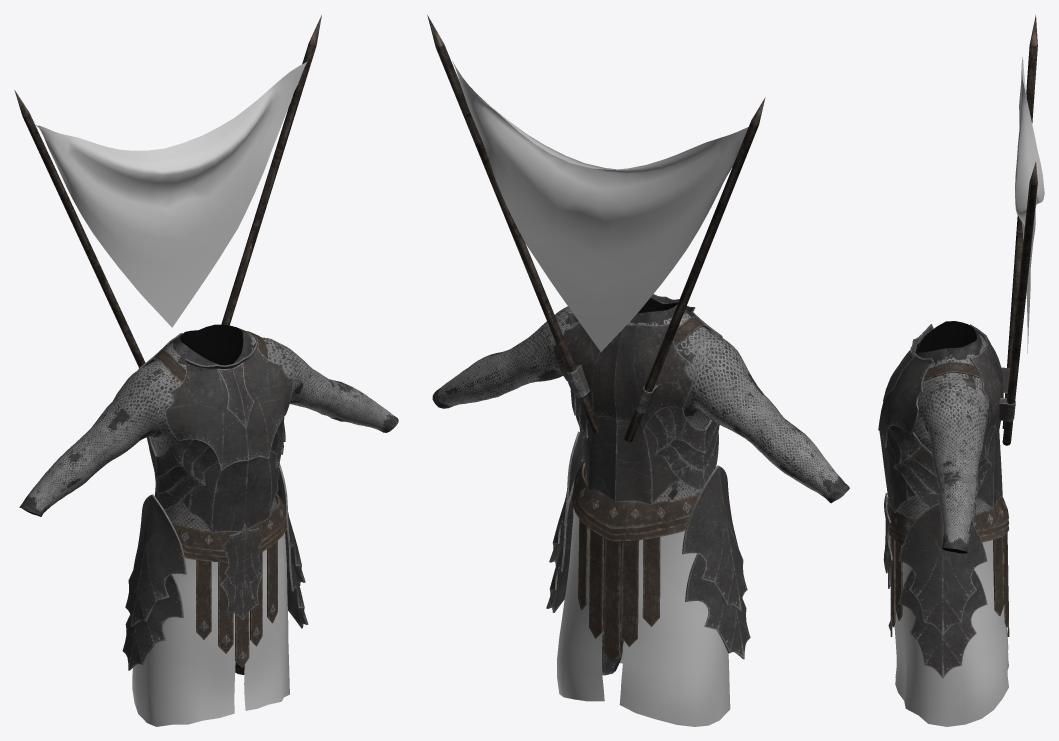
The model's file is sk_uruk_mordor_chainmail_captain_b2.fbx.
3 renders of one model, left to right at view 1: azimuth 30°, elevation 25°; view 2: azimuth 150°, elevation 25°; view 3: azimuth 270°, elevation 25°, orthographic. The views are drawn at different scales.
Parts seen in each view (by area): view 1: sk_uruk_mordor_chainmail_captain_b2.2, sk_uruk_mordor_chainmail_captain_b2.4, sk_uruk_mordor_chainmail_captain_b2.0, sk_uruk_mordor_chainmail_captain_b2.1, sk_uruk_mordor_chainmail_captain_b2.5, sk_uruk_mordor_chainmail_captain_b2.3; view 2: sk_uruk_mordor_chainmail_captain_b2.2, sk_uruk_mordor_chainmail_captain_b2.1, sk_uruk_mordor_chainmail_captain_b2.4, sk_uruk_mordor_chainmail_captain_b2.0, sk_uruk_mordor_chainmail_captain_b2.5; view 3: sk_uruk_mordor_chainmail_captain_b2.2, sk_uruk_mordor_chainmail_captain_b2.0, sk_uruk_mordor_chainmail_captain_b2.4, sk_uruk_mordor_chainmail_captain_b2.5, sk_uruk_mordor_chainmail_captain_b2.1, sk_uruk_mordor_chainmail_captain_b2.3.
Part boxes in pixels (x1,y1,x2,y2): sk_uruk_mordor_chainmail_captain_b2.2: (36, 62, 306, 726); sk_uruk_mordor_chainmail_captain_b2.4: (138, 326, 292, 532); sk_uruk_mordor_chainmail_captain_b2.0: (19, 324, 398, 674); sk_uruk_mordor_chainmail_captain_b2.1: (14, 15, 321, 667); sk_uruk_mordor_chainmail_captain_b2.5: (122, 463, 308, 670); sk_uruk_mordor_chainmail_captain_b2.3: (220, 523, 262, 620); sk_uruk_mordor_chainmail_captain_b2.2: (452, 61, 748, 726); sk_uruk_mordor_chainmail_captain_b2.1: (427, 15, 765, 662); sk_uruk_mordor_chainmail_captain_b2.4: (553, 294, 722, 505); sk_uruk_mordor_chainmail_captain_b2.0: (432, 297, 849, 675); sk_uruk_mordor_chainmail_captain_b2.5: (546, 431, 750, 659); sk_uruk_mordor_chainmail_captain_b2.2: (894, 56, 1044, 726); sk_uruk_mordor_chainmail_captain_b2.0: (897, 321, 989, 553); sk_uruk_mordor_chainmail_captain_b2.4: (878, 324, 1003, 512); sk_uruk_mordor_chainmail_captain_b2.5: (898, 503, 987, 678); sk_uruk_mordor_chainmail_captain_b2.1: (888, 15, 1037, 636); sk_uruk_mordor_chainmail_captain_b2.3: (883, 493, 892, 588).
Size of the model in its own units: 1.37 by 0.5408 by 2.18.
